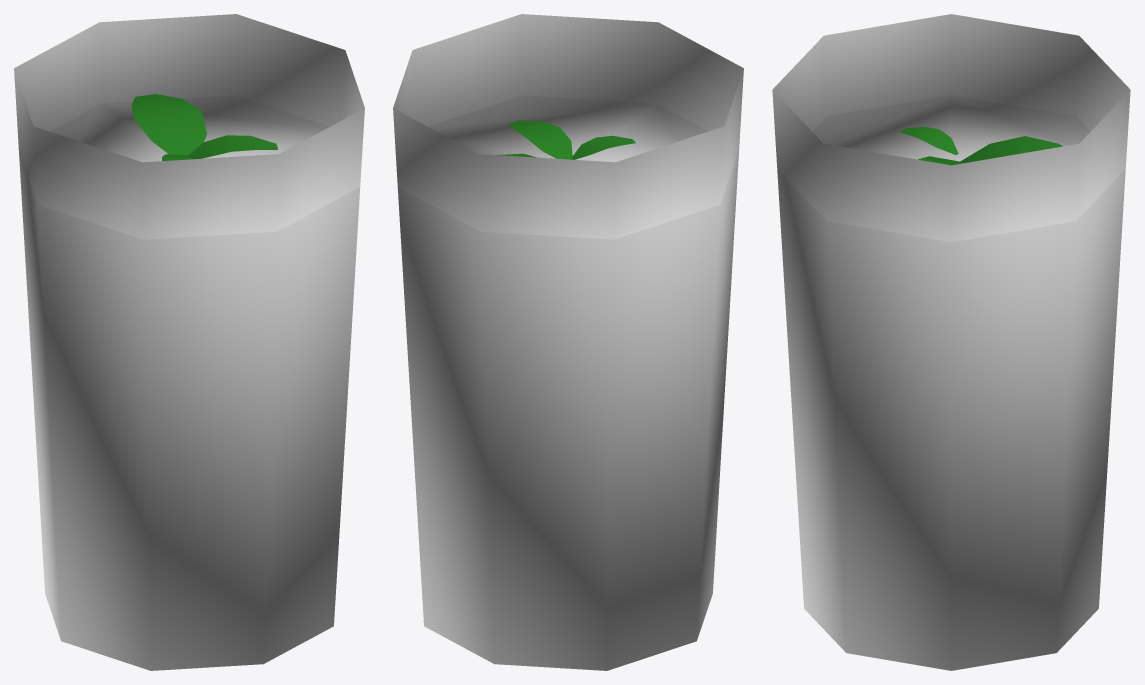
Rendered from dessert white.fbx.
3 views of the same model, side by side, from view 1: azimuth 30°, elevation 25°; view 2: azimuth 150°, elevation 25°; view 3: azimuth 270°, elevation 25° (orthographic).
Visible parts, largest first — view 1: dessert white; view 2: dessert white; view 3: dessert white.
Part boxes in pixels (x1,y1,x2,y2): dessert white: (14,14,364,670); dessert white: (393,14,743,670); dessert white: (772,14,1130,670).
Bounding box in the file's own units: 11.92 × 19.06 × 11.92.
